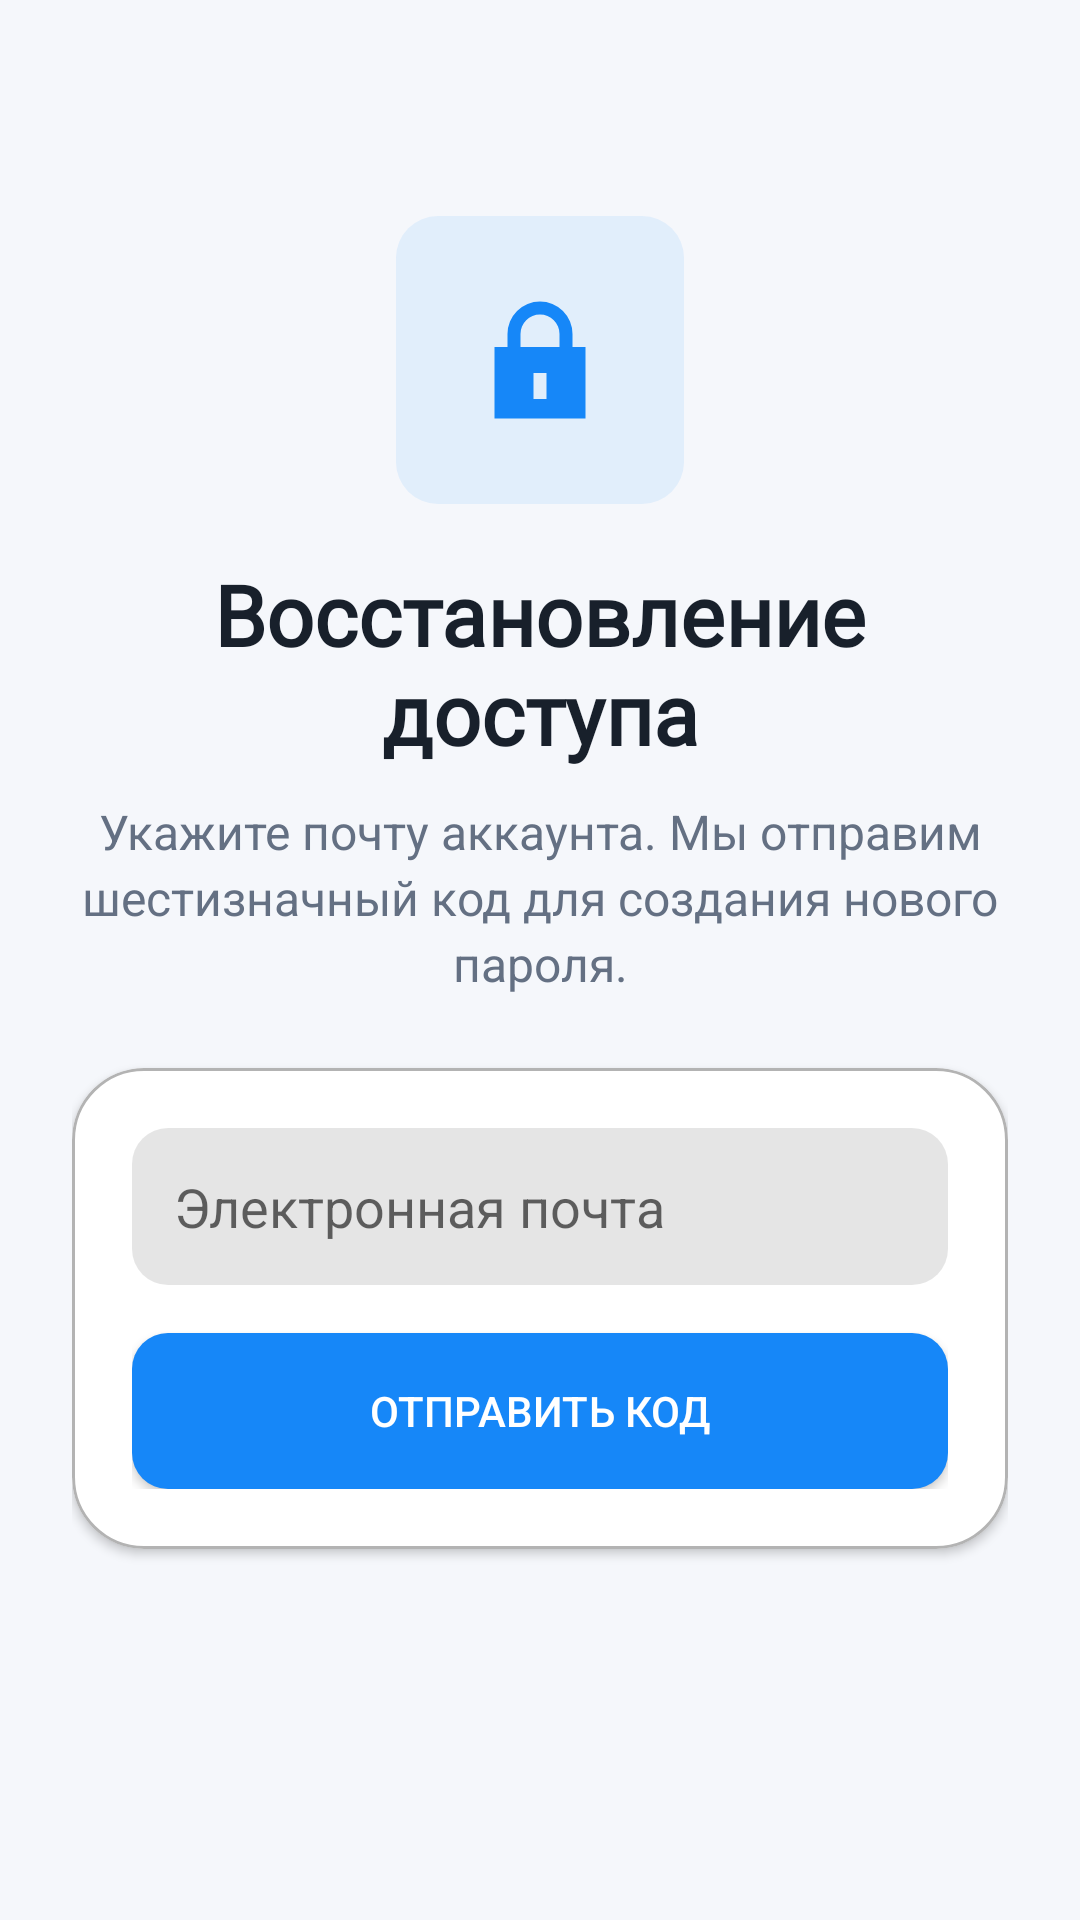

Icon bounding boxes for this 1080px x 1920px phone screenshot, format (x1,y1,x2,y2):
lock: (494,301,586,419)
